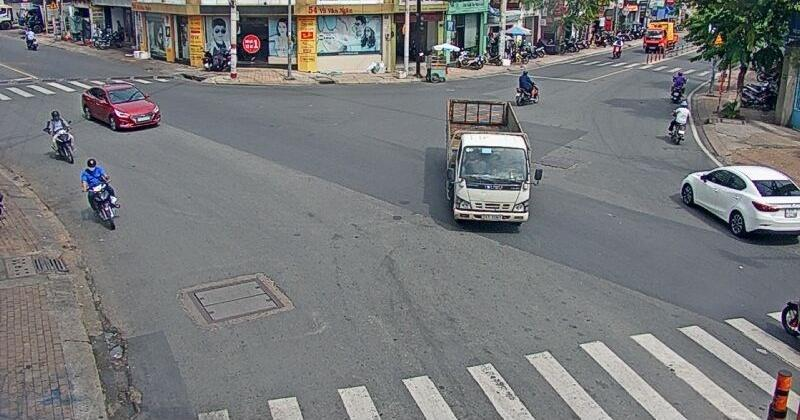xe hoi: (680, 165, 800, 234), (80, 84, 160, 132)
xe may: (80, 158, 118, 229), (47, 109, 75, 163), (669, 101, 689, 144), (515, 71, 539, 106)
xe tai: (444, 99, 529, 221)
